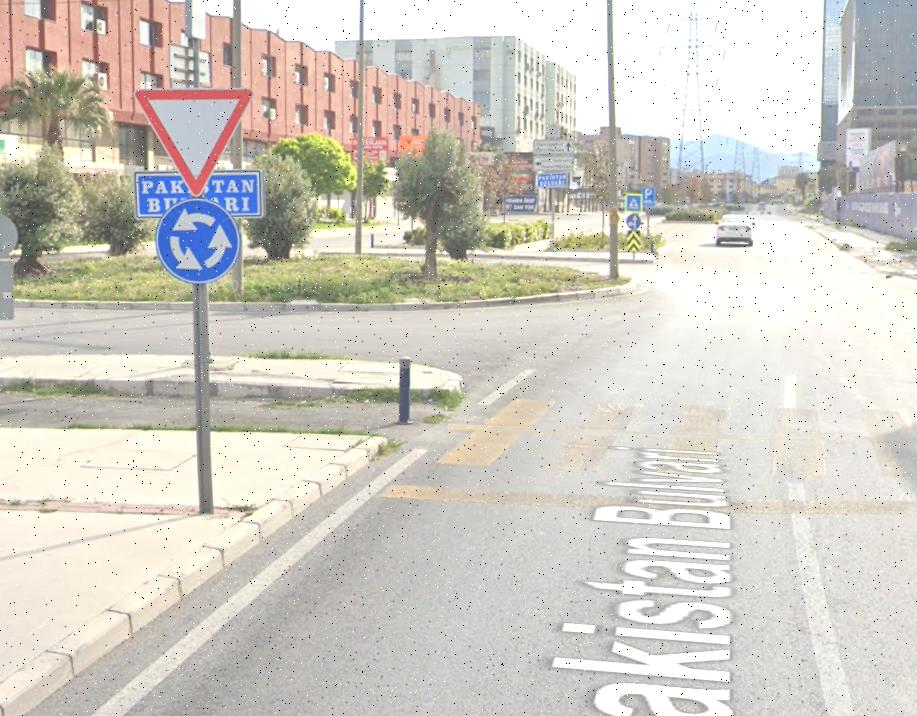crossroads: (157, 203, 240, 280)
park: (642, 187, 655, 206)
